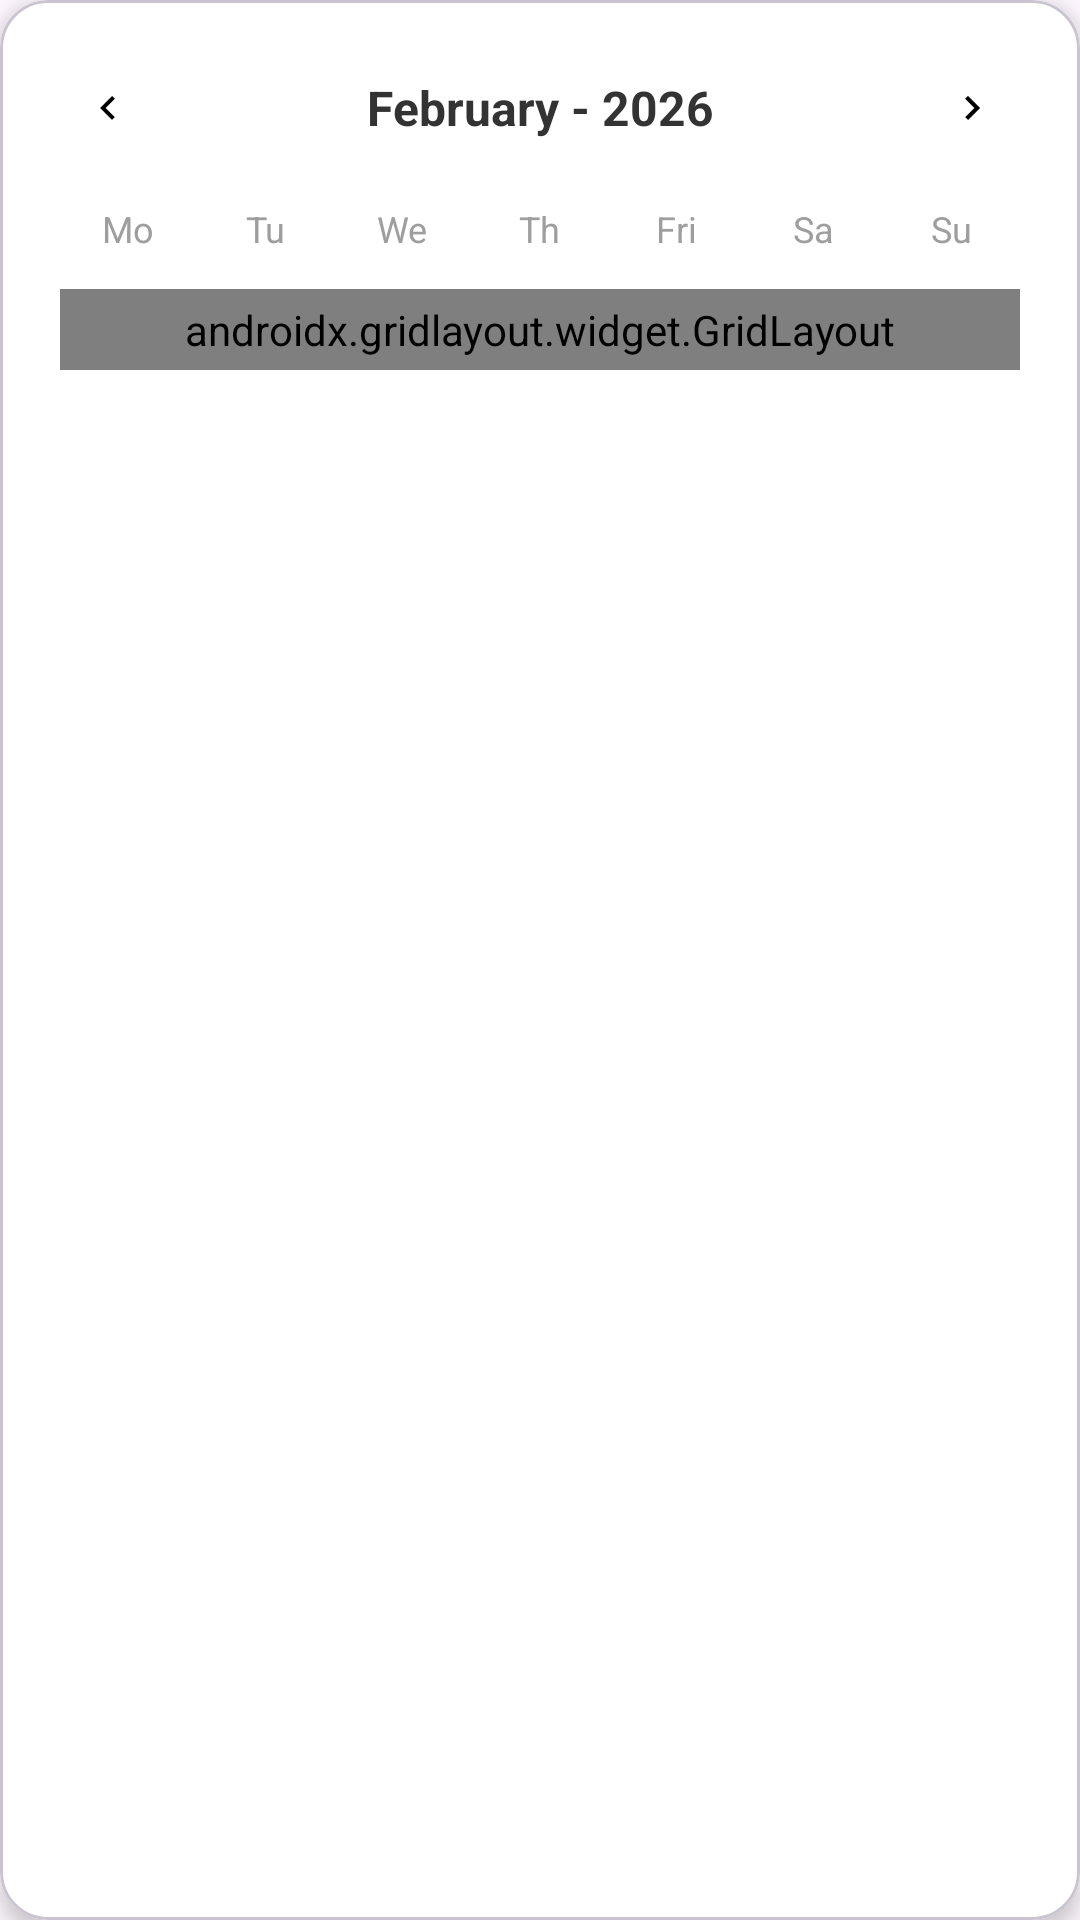

Icon click points for this 1080×1920 phone screenshot, format [x,y]:
arrow left: [107,108]
arrow right: [972,108]
